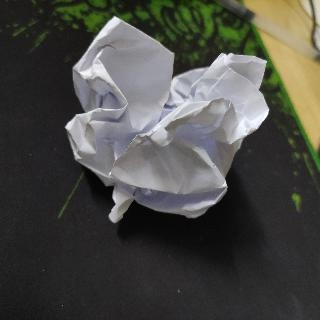8/可回收垃圾/纸: (63, 15, 271, 224)
